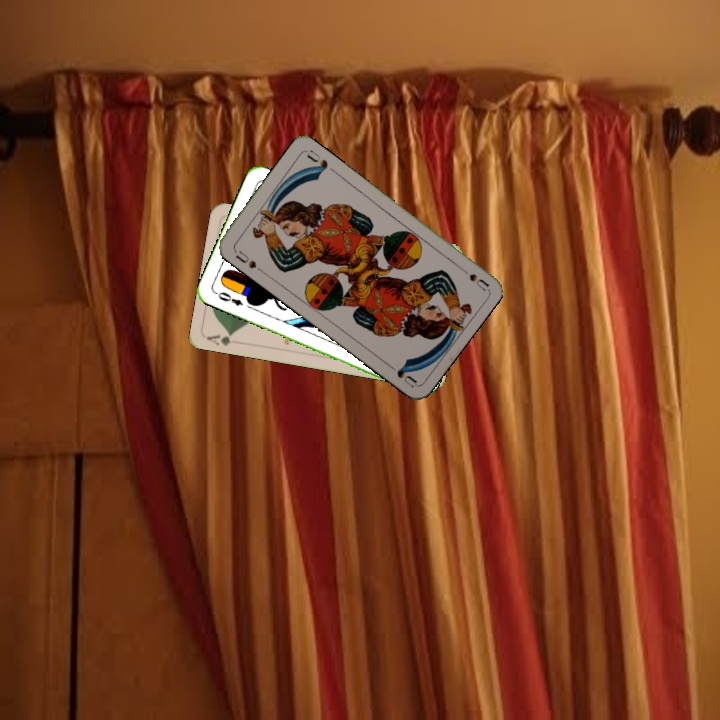EO: (211, 288, 246, 309)
GA: (203, 329, 235, 348)
SU: (454, 261, 491, 293), (230, 245, 265, 275)
